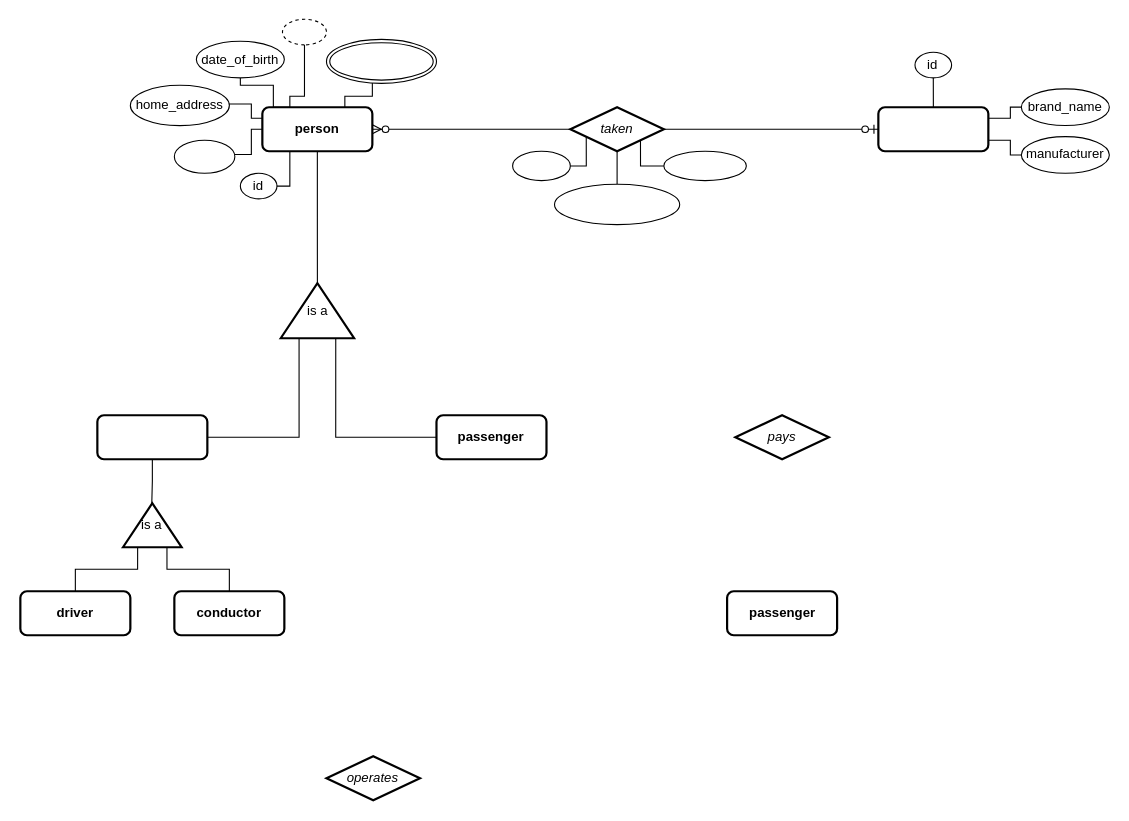
Some shapes in this 1129 by 821 pixel diagram are drawn without their labels. The box of each missing label's shape, as (x1, y1, x2, y2) in pixels:
age: (281, 18, 326, 45)
contact_number: (325, 38, 436, 83)
employee: (96, 414, 208, 460)
name: (173, 139, 235, 173)
recent_dose_date: (553, 183, 680, 225)
status: (512, 150, 570, 181)
total_doses: (663, 150, 746, 181)
vaccine: (877, 106, 989, 152)
